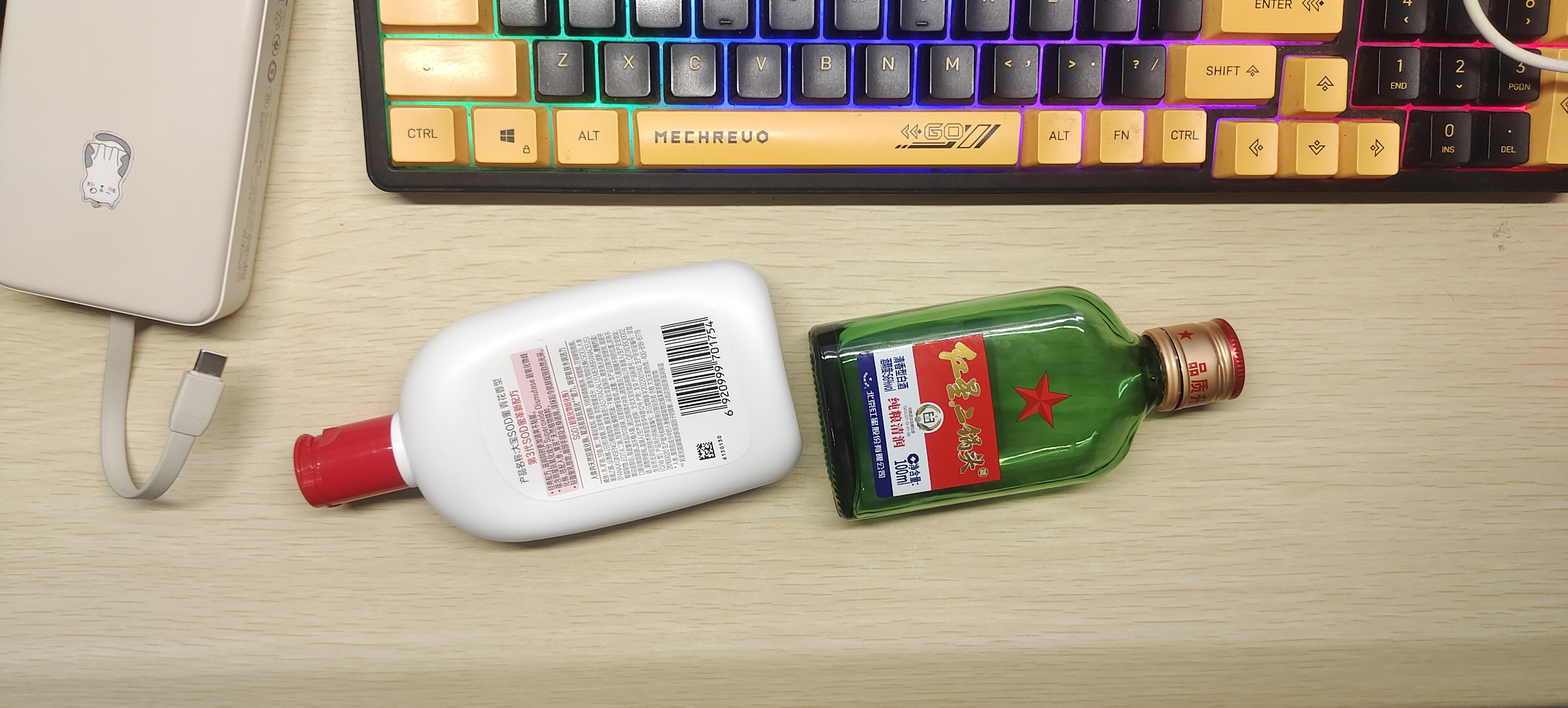redbull: (818, 320, 1318, 525)
